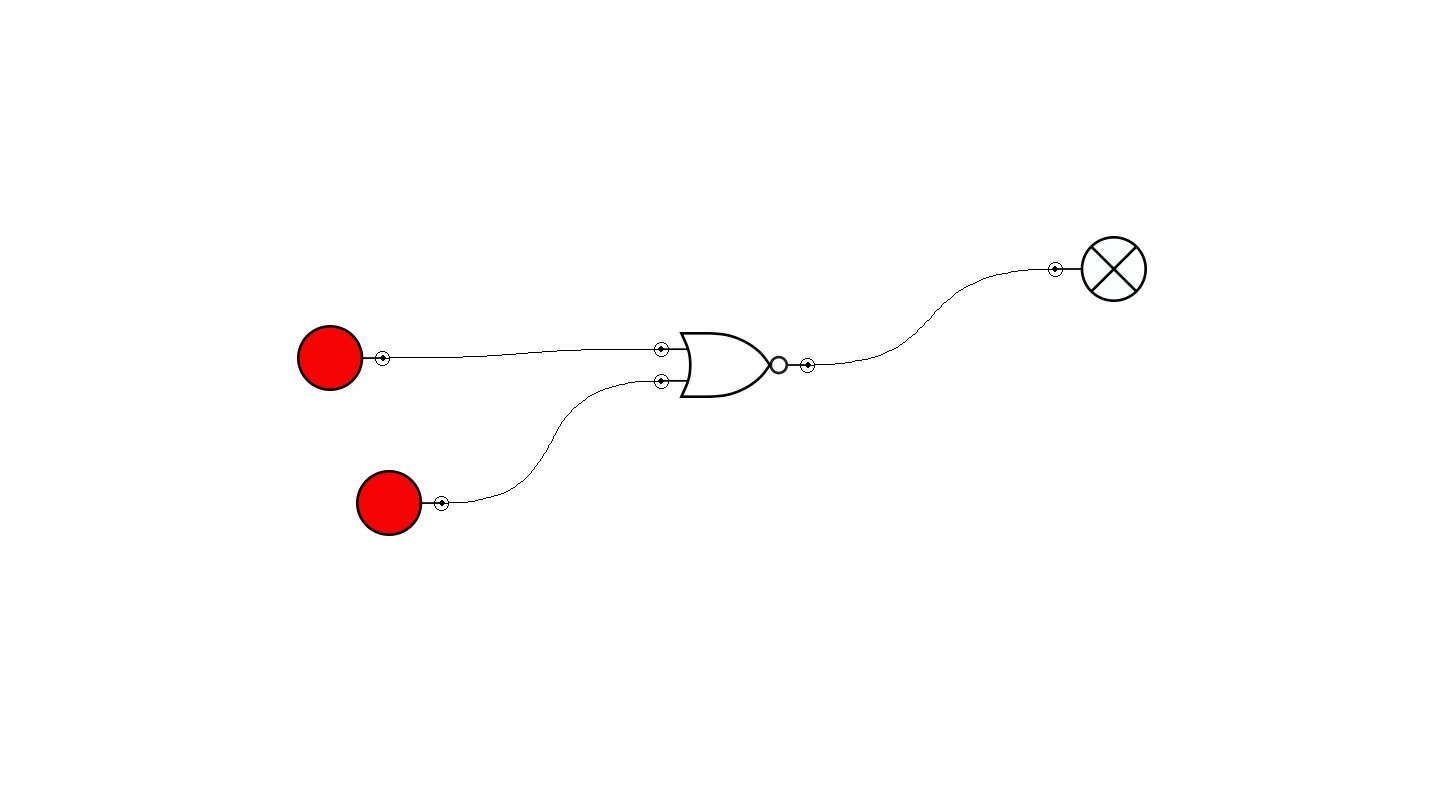bulb: (1048, 236, 1147, 302)
nor: (654, 332, 815, 398)
switch_False: (297, 325, 390, 391), (356, 470, 449, 536)
